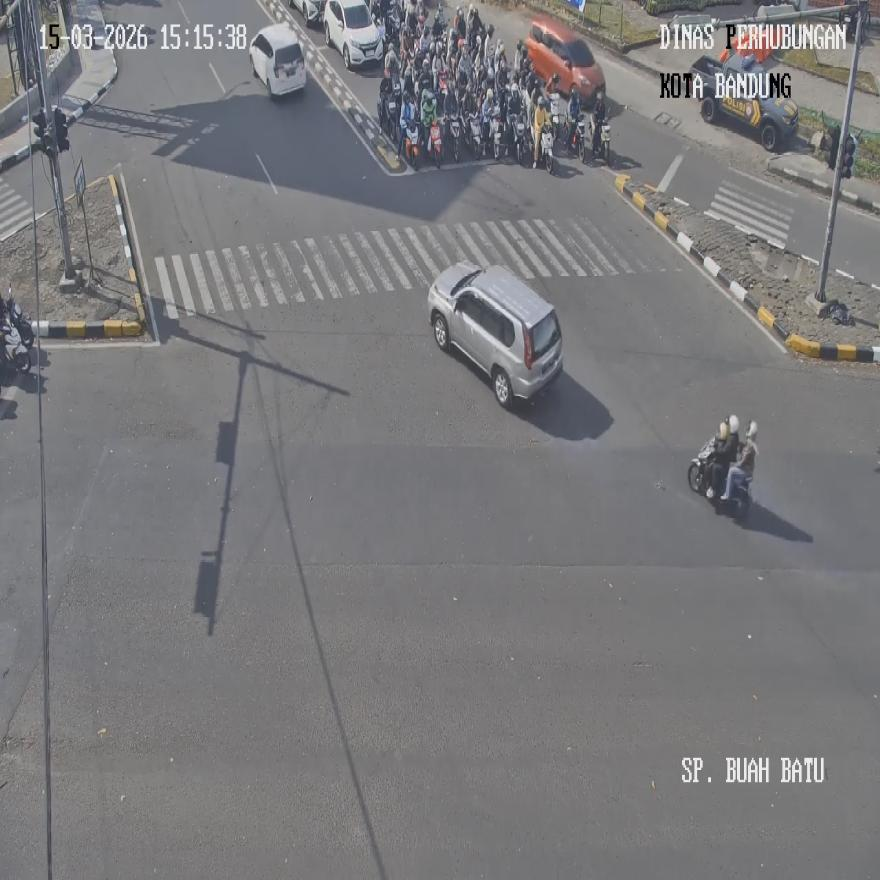Motor: (427, 260, 564, 407), (689, 49, 798, 150), (522, 16, 604, 106), (249, 23, 305, 97), (323, 0, 383, 68)
Truk: (688, 438, 752, 520), (0, 285, 34, 376), (376, 92, 396, 140), (402, 118, 420, 168), (467, 114, 485, 160), (510, 117, 527, 165), (538, 124, 554, 174), (594, 119, 611, 166), (569, 118, 586, 162), (428, 118, 442, 168), (447, 115, 461, 161), (490, 119, 503, 160)
